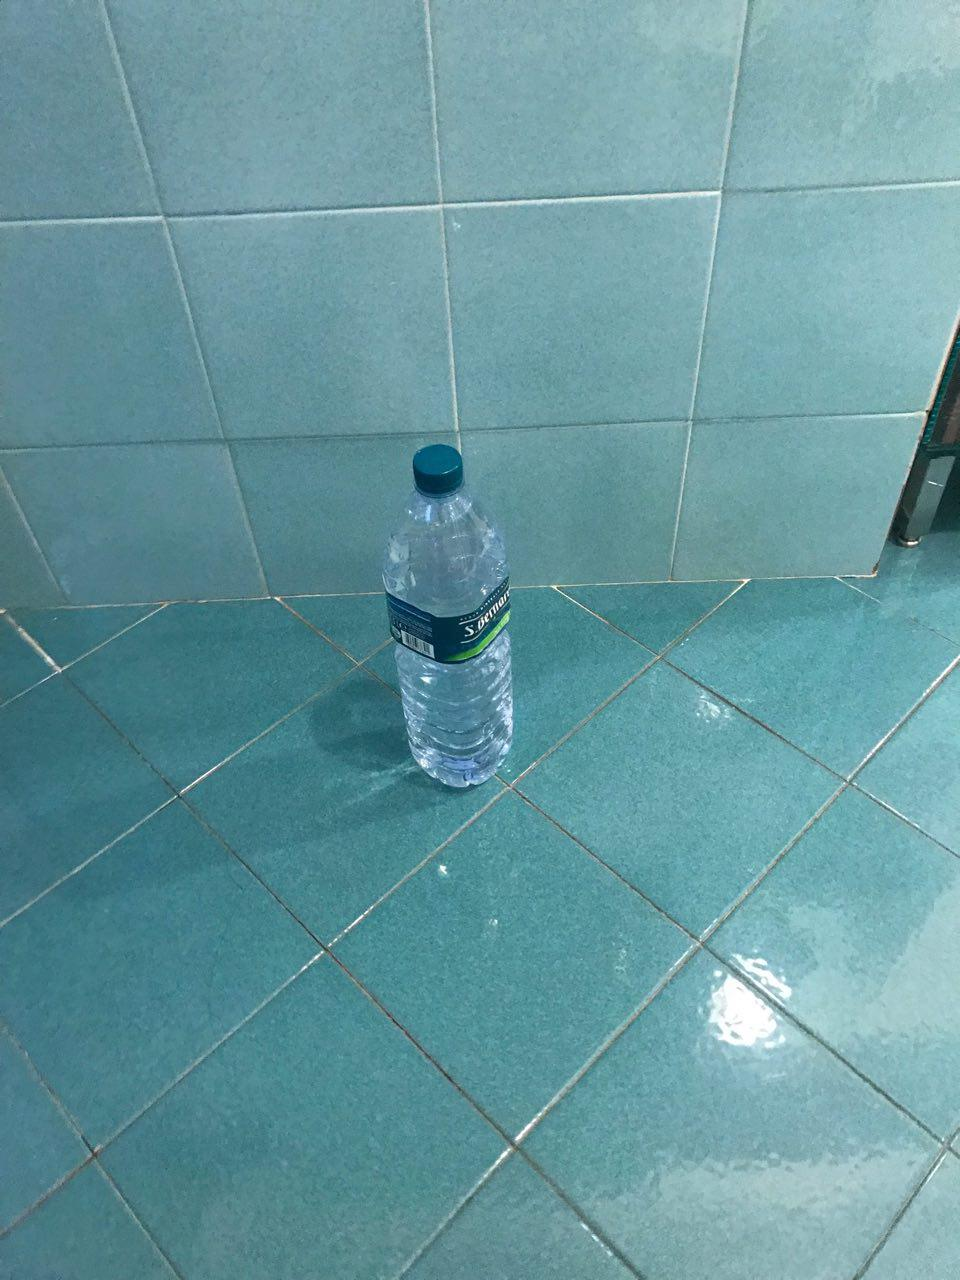san_bernardo: (382, 444, 514, 789)
